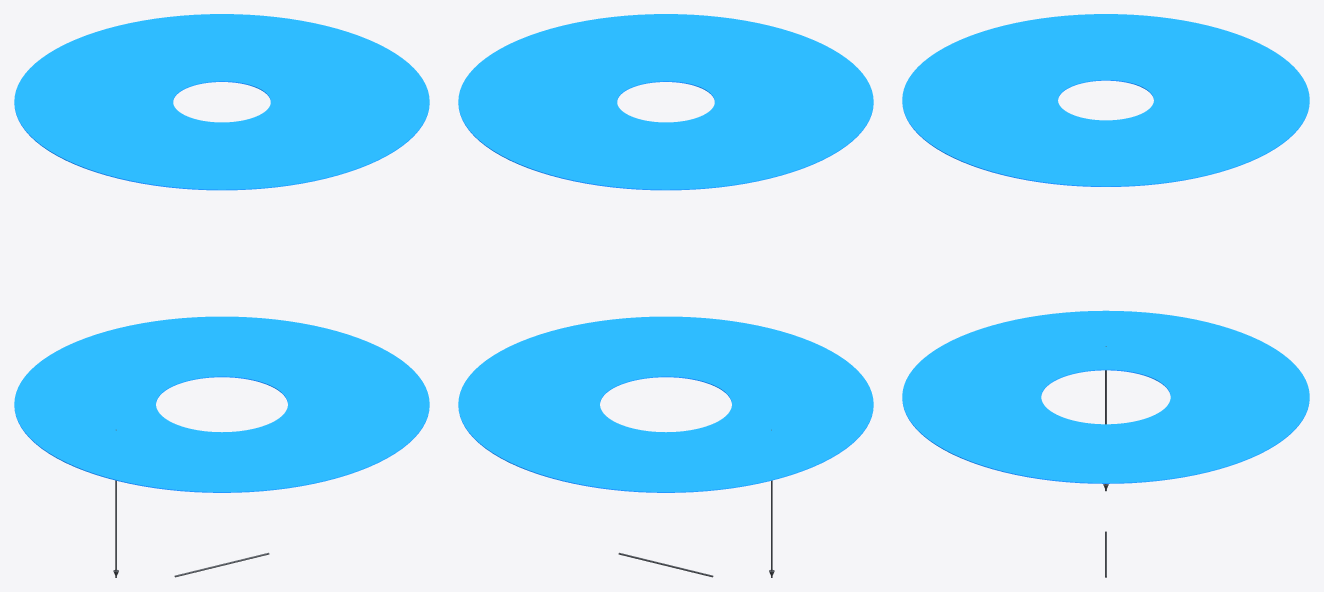
Rendered from vertical_turbine_pump_installation.glb.
3 renders of one model, left to right at view 1: azimuth 30°, elevation 25°; view 2: azimuth 150°, elevation 25°; view 3: azimuth 270°, elevation 25°, orthographic.
Parts seen in each view (by area): view 1: sump_levels__front, sump_levels__back; view 2: sump_levels__back, sump_levels__front; view 3: sump_levels__back, sump_levels__front.
Part boxes in pixels (x1=…): sump_levels__front: x1=42, y1=58, x2=429, y2=577; sump_levels__back: x1=14, y1=14, x2=401, y2=576; sump_levels__back: x1=458, y1=58, x2=845, y2=577; sump_levels__front: x1=486, y1=14, x2=873, y2=576; sump_levels__back: x1=1106, y1=14, x2=1309, y2=577; sump_levels__front: x1=902, y1=14, x2=1105, y2=577.
Bounding box in the file's own units: 1.7 × 2.1 × 1.7.
